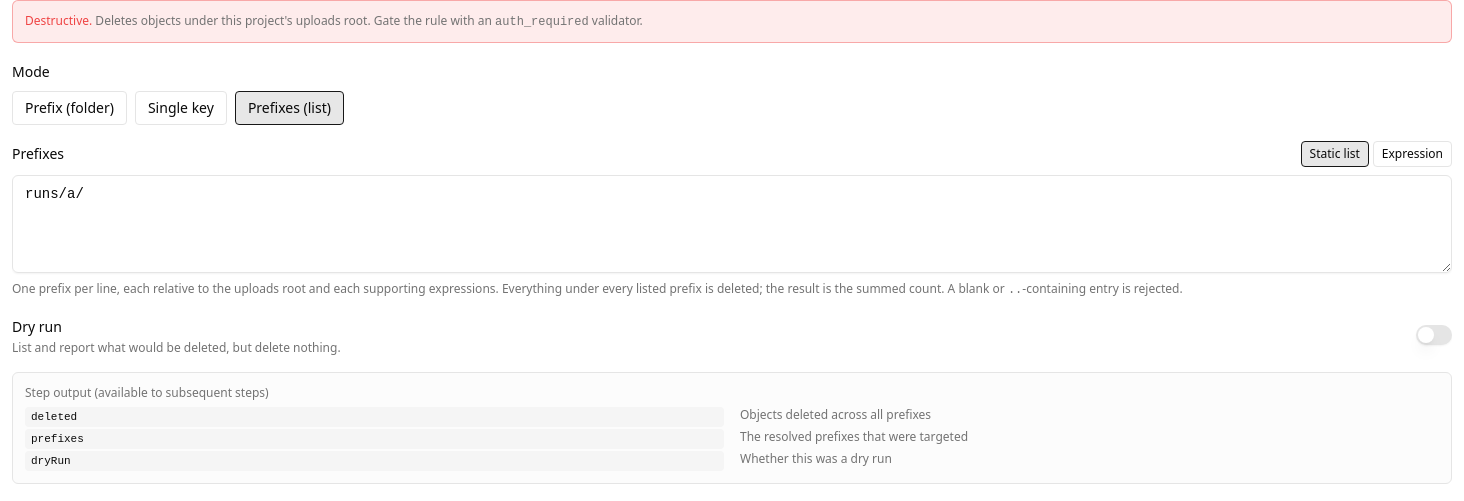
Scenario: FileDeleteHandlerConfig › prefixes mode › switching back to prefix mode drops prefixes
Click the button "Prefix (folder)" at {"x": 69, "y": 108}, box [12,91,127,125]
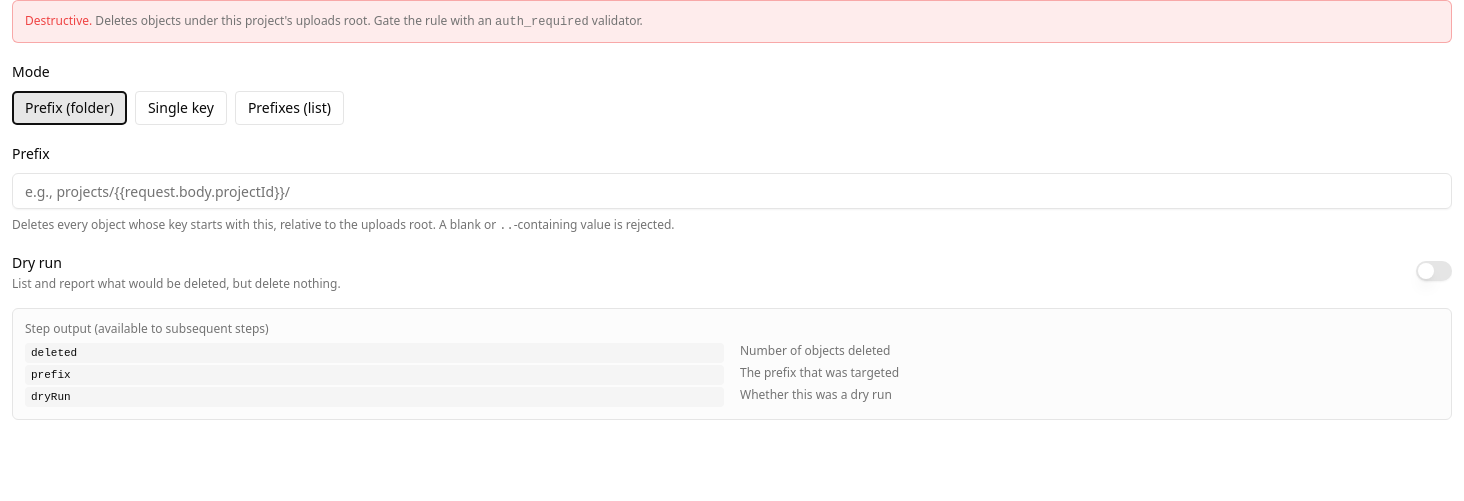
Check: the field with placeholder "e.g., projects/{{request.body.projectId}}/" is shown, box [12,173,1452,209]
